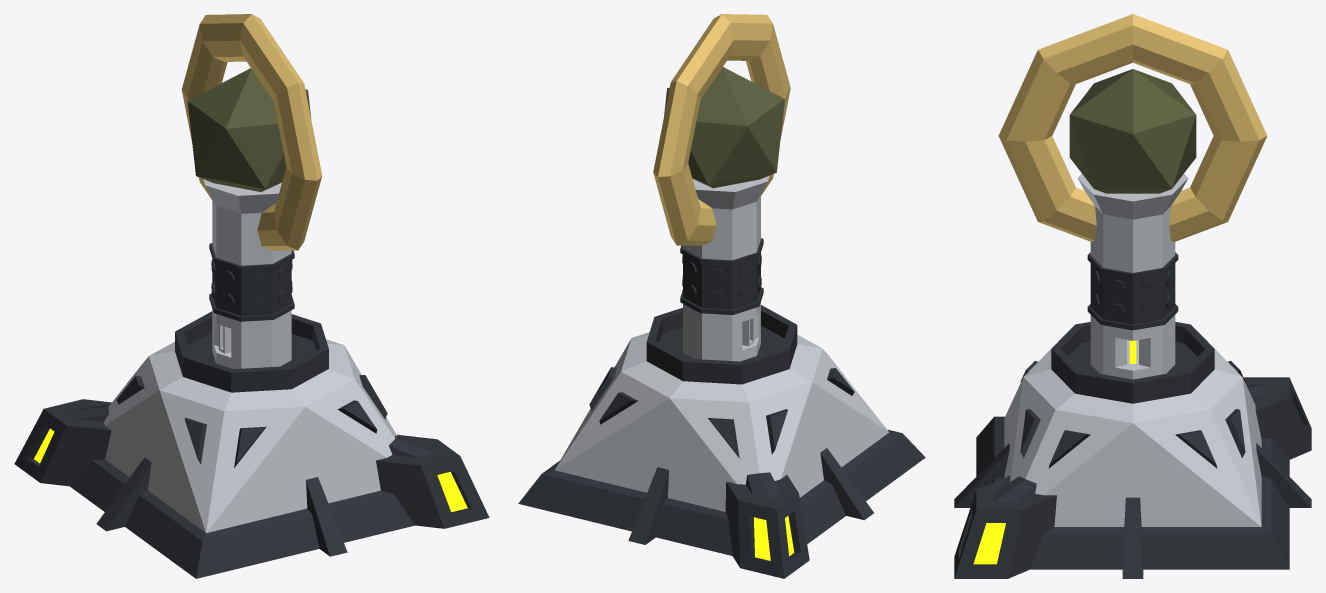
File: Tesla1.glb
The picture shows the model from 3 angles, left to right: view 1: azimuth 30°, elevation 25°; view 2: azimuth 150°, elevation 25°; view 3: azimuth 270°, elevation 25°; orthographic projection. The views are drawn at different scales.
Parts seen in each view (by area): view 1: Cube.003, Cube.001, Torus, Icosphere, Neon.001; view 2: Cube.001, Cube.003, Torus, Icosphere, Neon.001; view 3: Cube.001, Cube.003, Torus, Icosphere, Neon.001.
Boxes of the visible parts, box(x1,y1,x2,y2) form: Cube.003: box(14, 243, 489, 578); Cube.001: box(104, 179, 396, 533); Torus: box(181, 14, 322, 250); Icosphere: box(187, 68, 311, 191); Neon.001: box(34, 428, 467, 512); Cube.001: box(555, 175, 889, 511); Cube.003: box(518, 238, 925, 578); Torus: box(653, 14, 790, 245); Icosphere: box(664, 67, 784, 188); Neon.001: box(753, 516, 794, 560); Cube.001: box(1004, 174, 1261, 526); Cube.003: box(954, 252, 1311, 578); Torus: box(998, 14, 1267, 241); Icosphere: box(1069, 69, 1196, 193); Neon.001: box(973, 340, 1136, 564).
Bounding box in the file's own units: 2.28 × 3.45 × 2.28.
